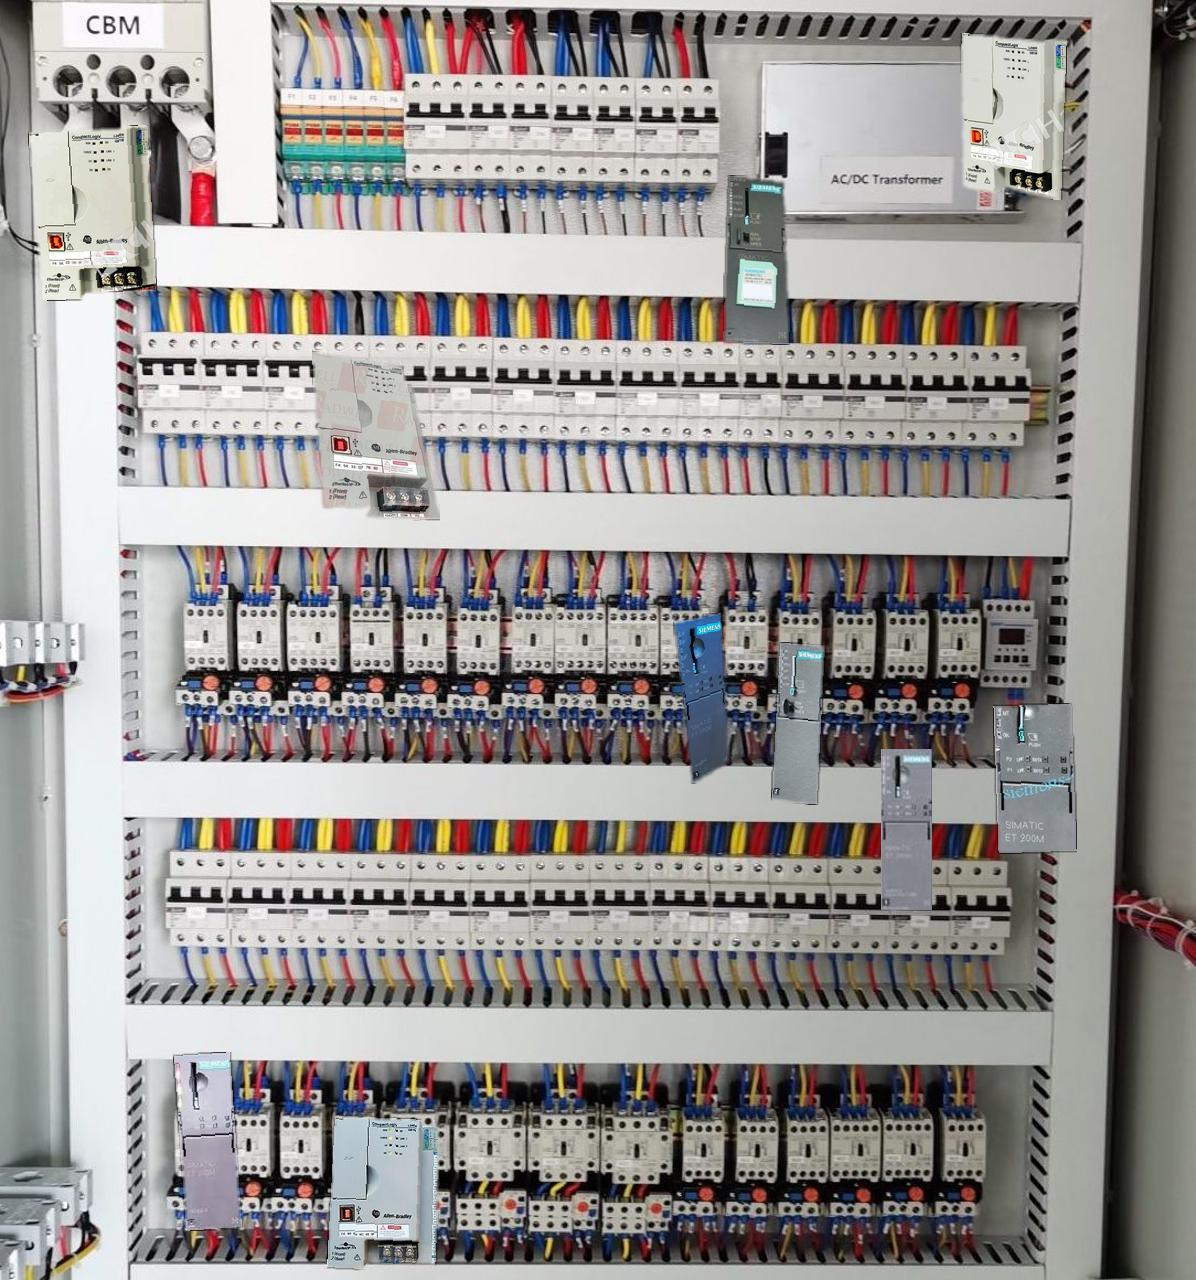AllenBradley: (29, 125, 155, 300), (312, 352, 440, 518), (961, 33, 1066, 199), (327, 1117, 438, 1268)
Siemens: (724, 176, 789, 343), (772, 643, 823, 804)
